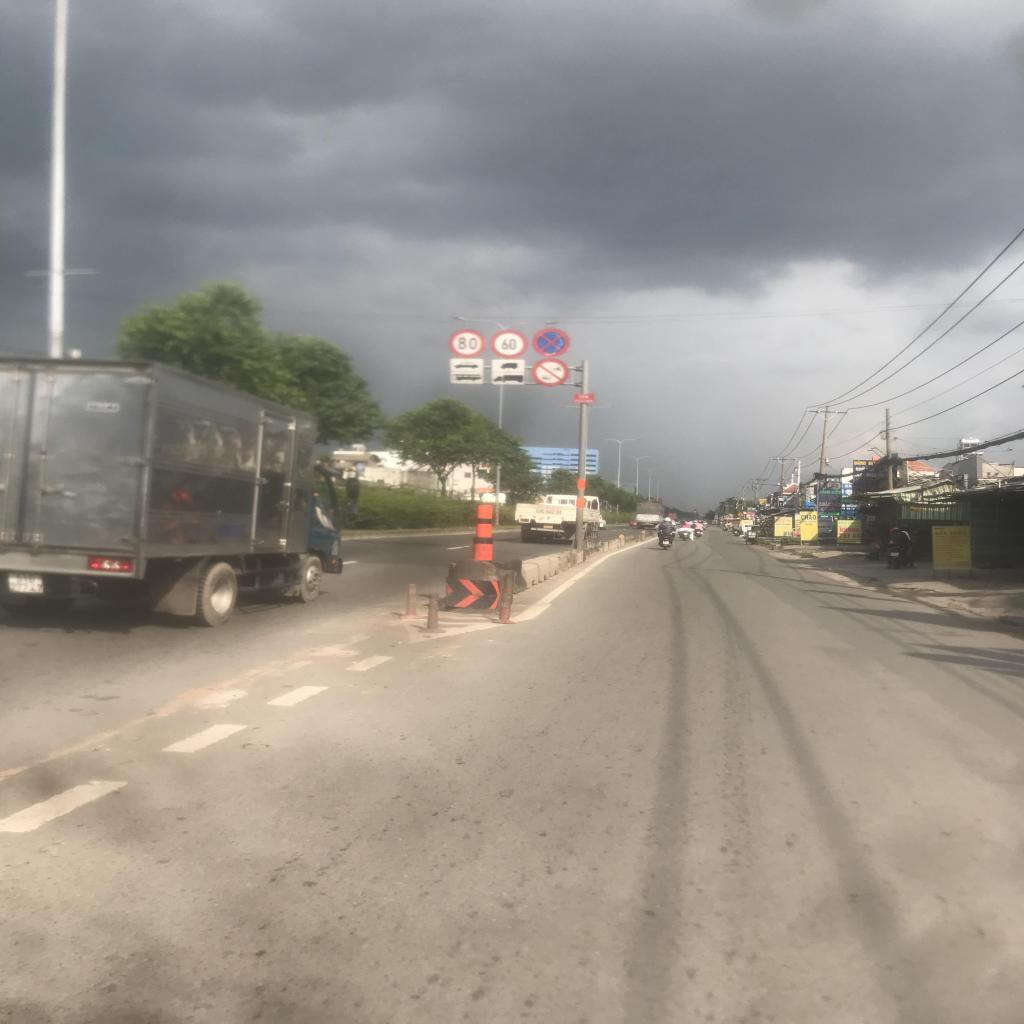cam_dung_xe_va_do_xe: (532, 329, 570, 357)
cam_xe_2_banh_va_xe_3_banh_co_dong_co: (532, 359, 569, 387)
khac: (490, 359, 524, 372), (491, 372, 524, 385), (449, 359, 484, 371), (450, 371, 482, 384)
toc_do_toi_da_60: (490, 330, 529, 358)
toc_do_toi_da_80: (449, 329, 486, 357)
